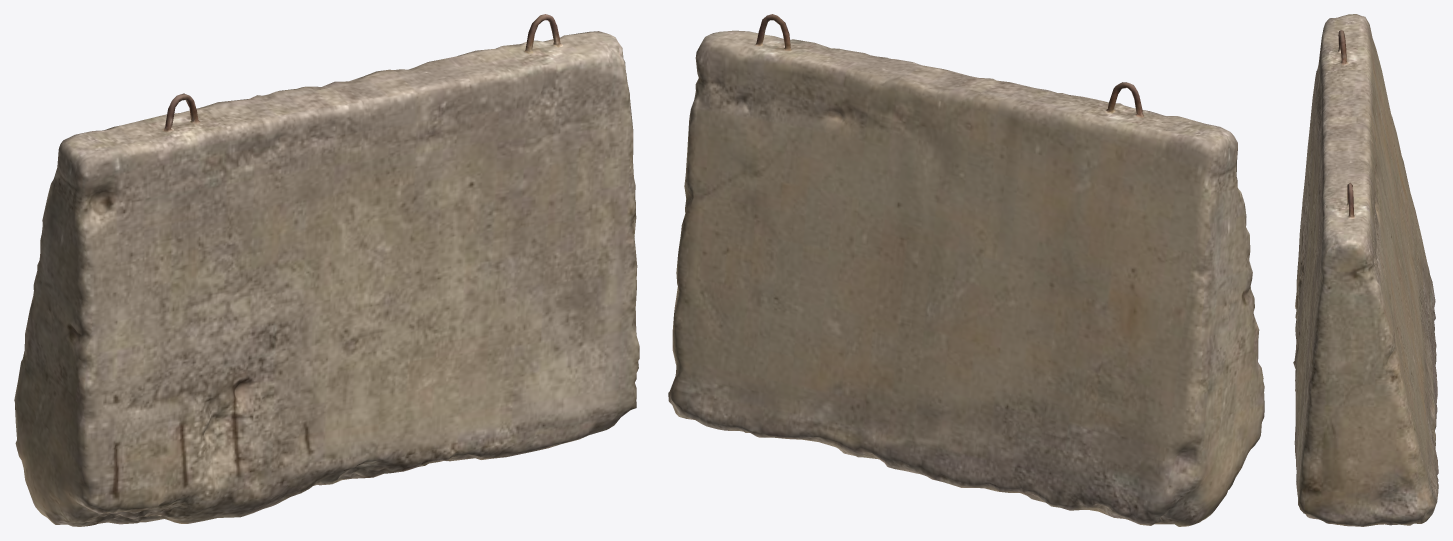
Rendered from concrete_road_barrier_02.glb.
The picture shows the model from 3 angles, left to right: view 1: azimuth 30°, elevation 25°; view 2: azimuth 150°, elevation 25°; view 3: azimuth 270°, elevation 25°; orthographic projection. The views are drawn at different scales.
Parts seen in each view (by area): view 1: concrete_road_barrier_02_LOD2; view 2: concrete_road_barrier_02_LOD2; view 3: concrete_road_barrier_02_LOD2.
Boxes of the visible parts, bbox=[...] form: concrete_road_barrier_02_LOD2: bbox=[14, 14, 639, 526]; concrete_road_barrier_02_LOD2: bbox=[668, 14, 1264, 526]; concrete_road_barrier_02_LOD2: bbox=[1293, 14, 1438, 526].
Size of the model in its own units: 1.57 by 1.11 by 0.442.
1 material, 1 textured.
